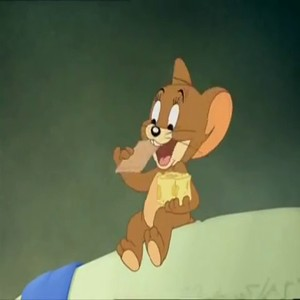Jerry: (106, 50, 234, 273)
